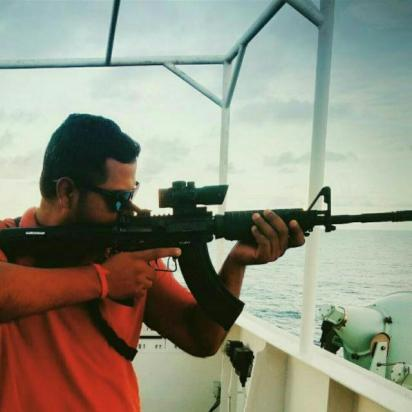Gun: (0, 179, 411, 333)
